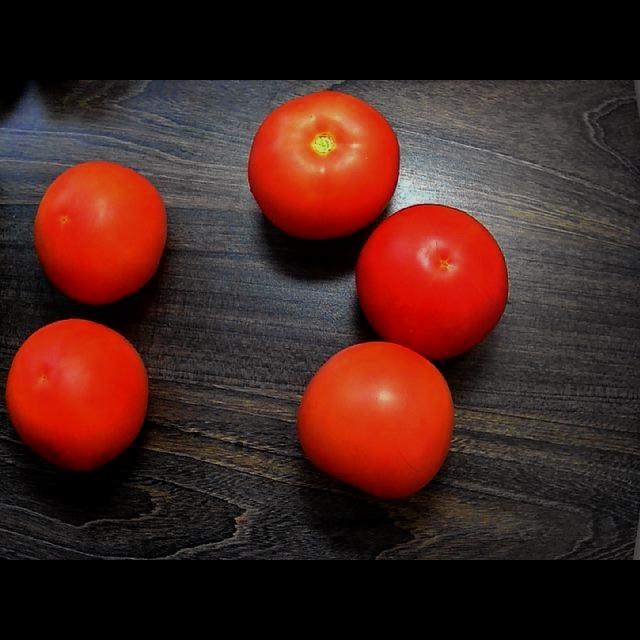tomate: (298, 341, 453, 498), (356, 204, 508, 359), (249, 92, 399, 239), (6, 320, 148, 471), (34, 161, 167, 304)
